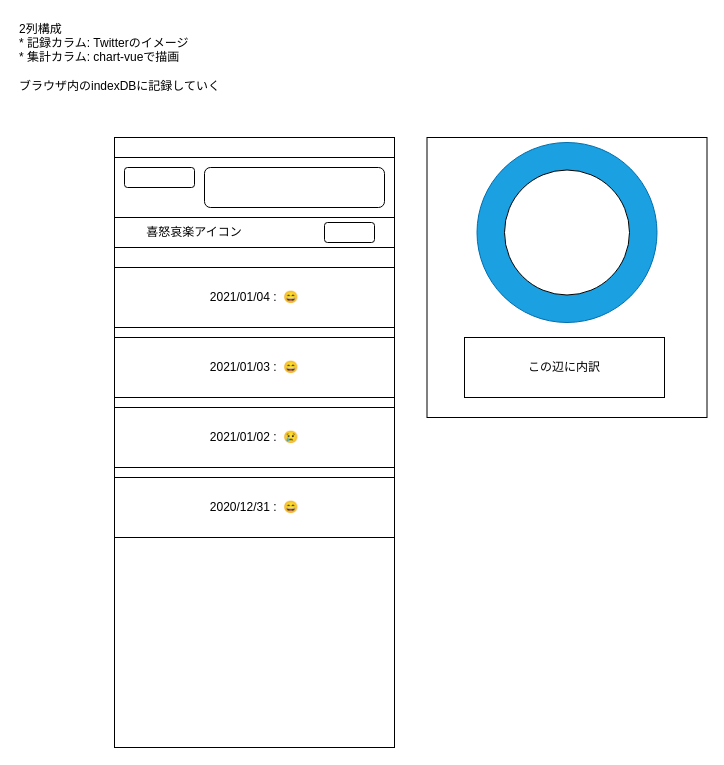
Image size: 724x765. Some labels were removed from this diagram. The shapes that lost their labels are listed below. From the top down, each one's centre as x and y in pixels, then its label:
At pixel 159 177: "日付".
At pixel 294 187: "メモ".
At pixel 349 232: "登録".
